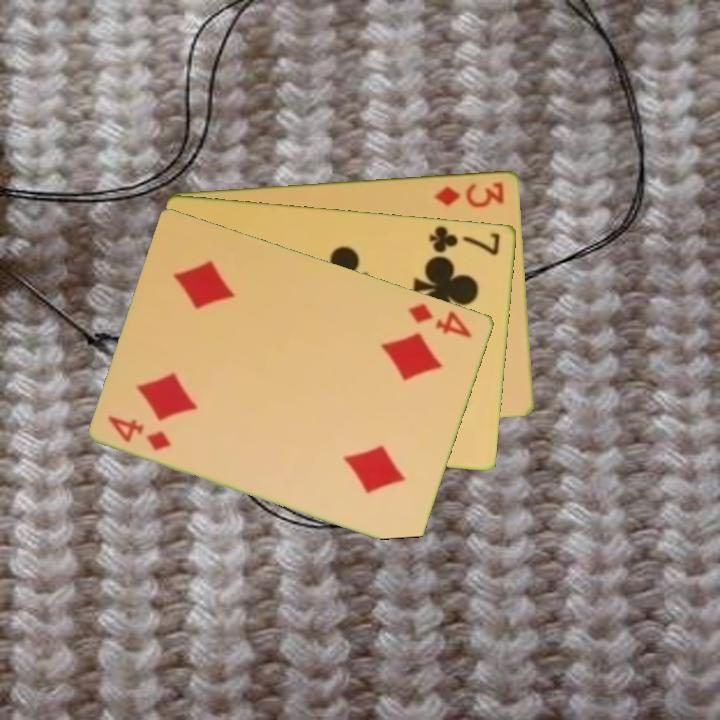3d: (431, 178, 507, 210)
4d: (406, 299, 476, 341), (105, 412, 175, 454)
7c: (426, 222, 503, 258)
